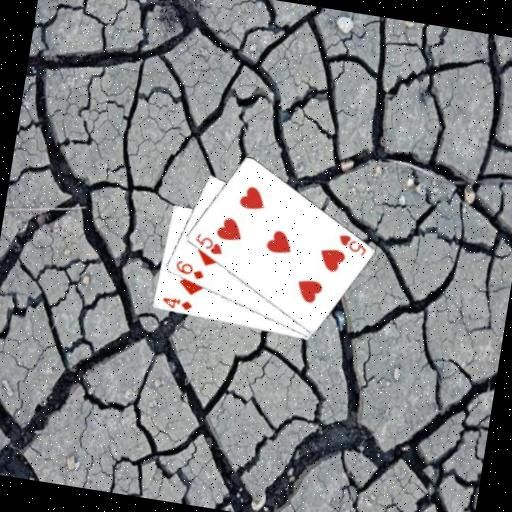4D: (157, 293, 194, 312)
5H: (189, 229, 226, 257), (333, 230, 370, 258)
6D: (170, 256, 206, 281)
